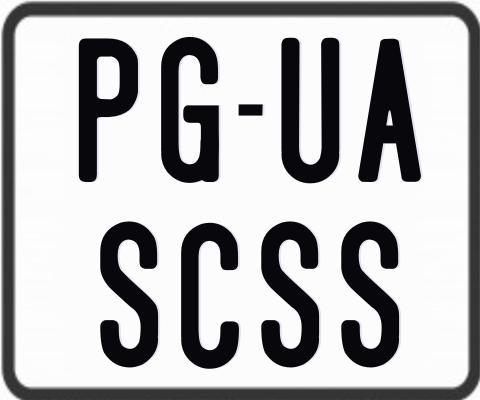A: (358, 37, 421, 186)
C: (178, 223, 239, 369)
G: (158, 36, 221, 188)
P: (76, 36, 140, 185)
S: (259, 218, 323, 370), (99, 220, 161, 370), (338, 219, 397, 367)
U: (278, 38, 341, 189)
